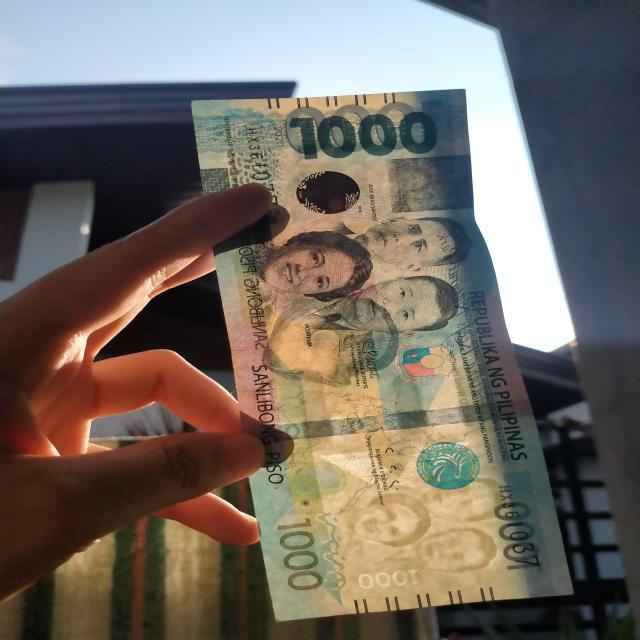concealed_value: (386, 156, 474, 212)
optically_variable_device: (284, 163, 372, 222)
security_thread: (246, 399, 534, 446)
see_through_mark: (309, 505, 353, 595)
value_watermark: (357, 567, 423, 588)
watermark: (355, 474, 511, 570)
